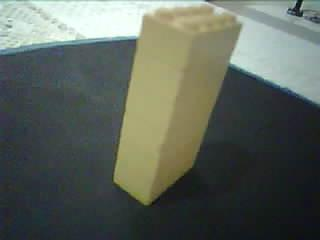lego: (112, 3, 242, 207)
